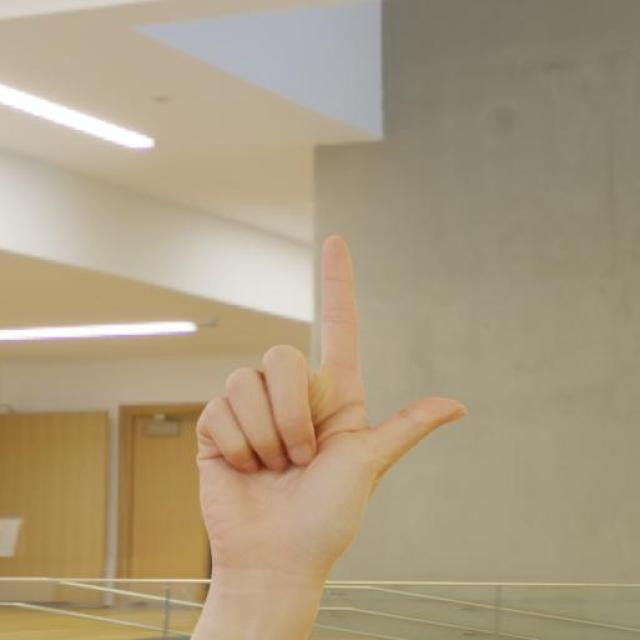L: (193, 231, 472, 569)
